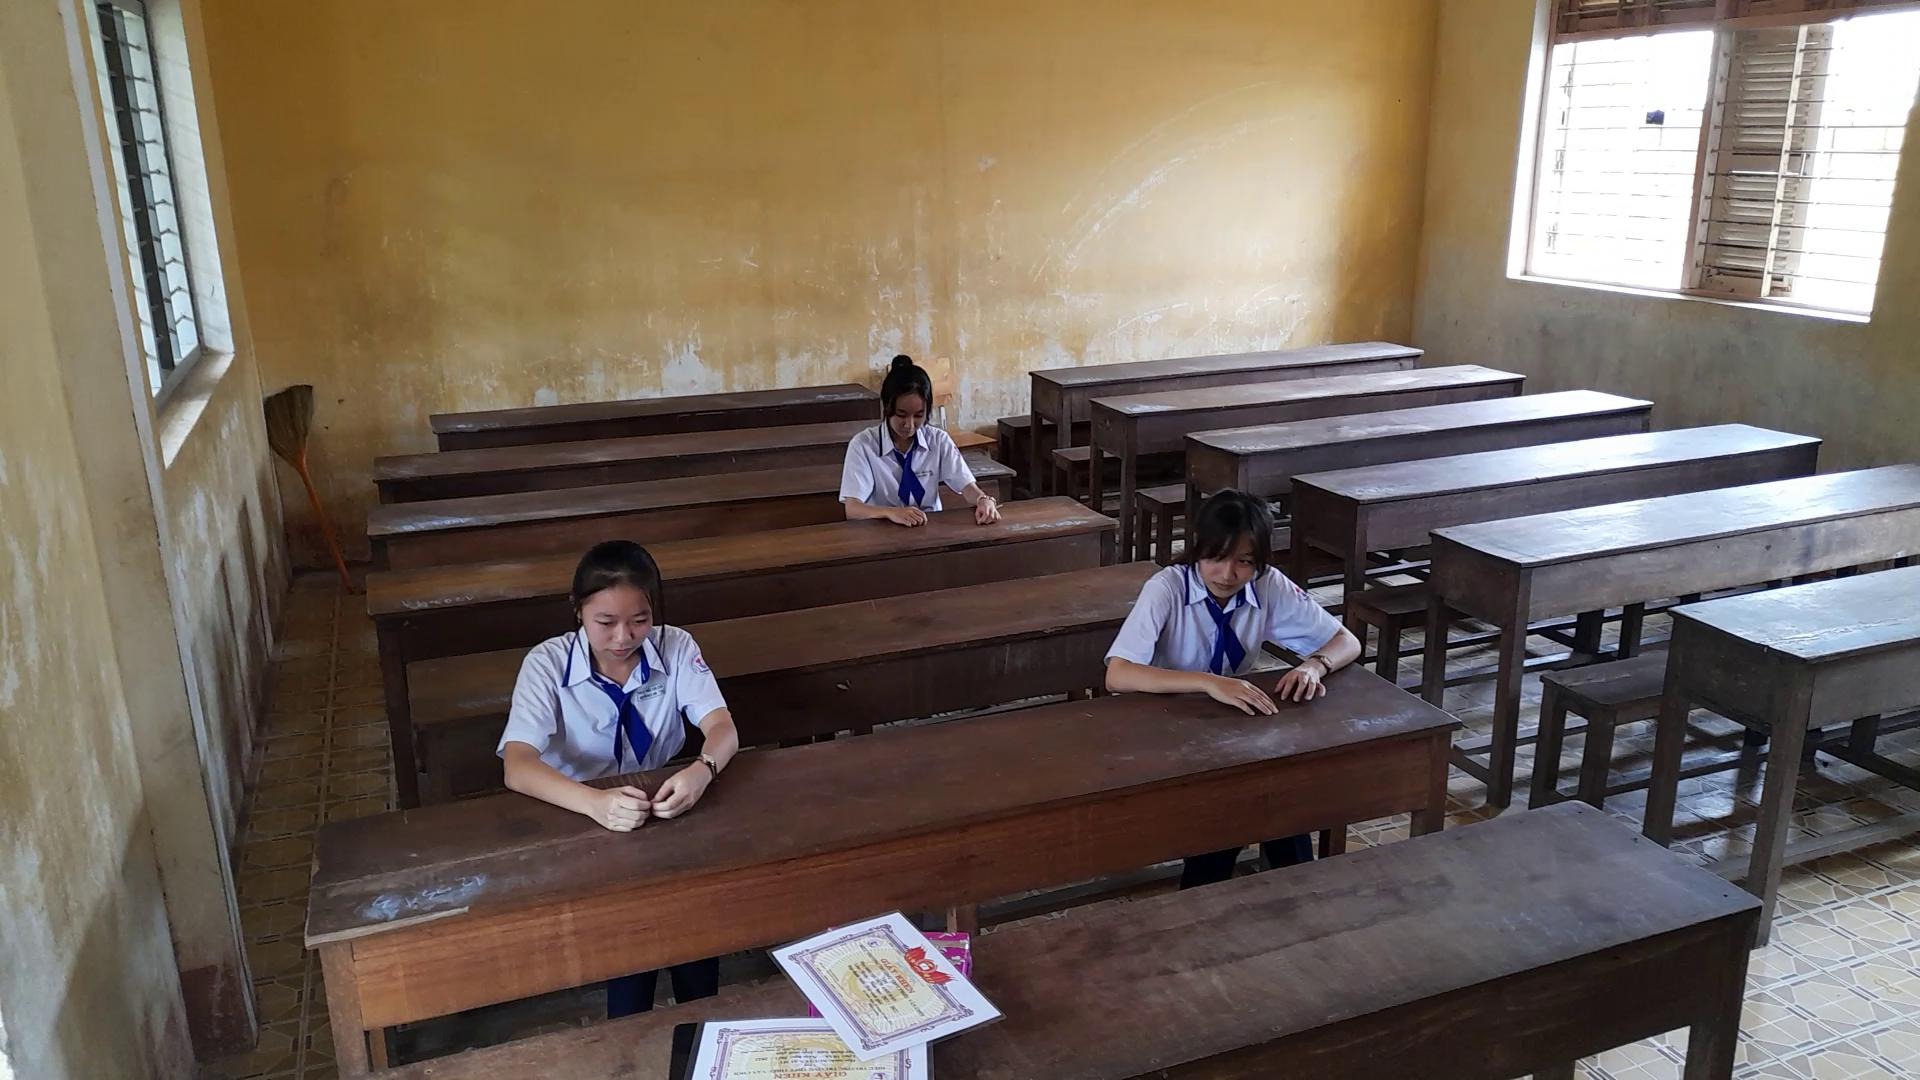Bend Over The Desk: (855, 328, 949, 444)
Normal: (479, 530, 757, 829), (1100, 476, 1391, 709)
